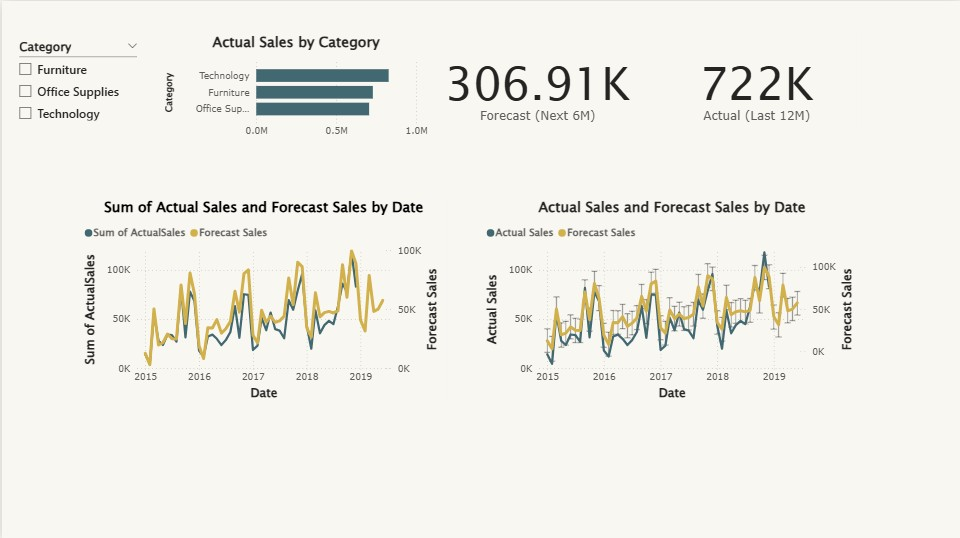

Layout of this report page (visuals, bound fields, positions):
{"tool":"powerbi","page":{"name":"Page 1","canvas":[1280,720],"ordinal":0},"visuals":[{"type":"lineChart","title":"Sum of Actual Sales and Forecast Sales by Date","fields":{"Y":["Sum(bi_category_actuals_forecast.ActualSales)"],"Y2":["Date.Forecast Sales"],"Category":["Date.Date"]},"box":[103.3,260,490,280],"z":0},{"type":"slicer","fields":{"Values":["bi_category_actuals_forecast.Category"]},"box":[10,43,183,131],"z":1000},{"type":"lineChart","fields":{"Category":["Date.Date"],"Y":["Date.Actual Sales"],"Y2":["Date.Forecast Sales"]},"box":[640,260,506.7,280],"z":2000},{"type":"card","fields":{"Values":["Date.Actual (Last 12M)"]},"box":[866.7,40,280,150],"z":3000},{"type":"card","fields":{"Values":["Date.Forecast (Next 6M)"]},"box":[553.3,20,320,190],"z":4000},{"type":"clusteredBarChart","fields":{"Y":["Date.Actual Sales"],"Category":["bi_category_actuals_forecast.Category"]},"box":[211,40,360,150],"z":5000}]}

Visuals, with their boxes in screenshot pixels (x1, y1, x2, y2), scaled from the page's 1280x720 canvas onto the 960x538 screenshot:
"Sum of Actual Sales and Forecast Sales by Date" lineChart: bbox(77, 194, 445, 404)
slicer - bi_category_actuals_forecast.Category: bbox(8, 32, 145, 130)
lineChart - Date.Date x Date.Actual Sales: bbox(480, 194, 860, 404)
card - Date.Actual (Last 12M): bbox(650, 30, 860, 142)
card - Date.Forecast (Next 6M): bbox(415, 15, 655, 157)
clusteredBarChart - Date.Actual Sales x bi_category_actuals_forecast.Category: bbox(158, 30, 428, 142)
